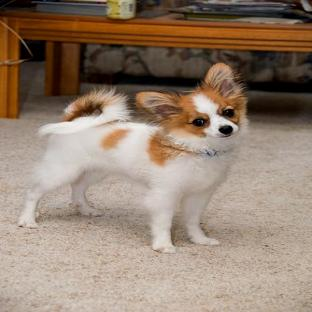Animal: (18, 63, 247, 253)
